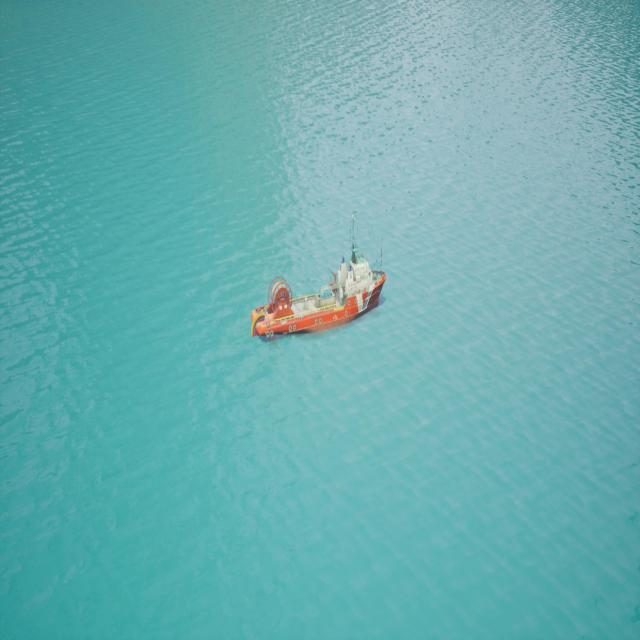tug boat: (252, 254, 390, 341)
